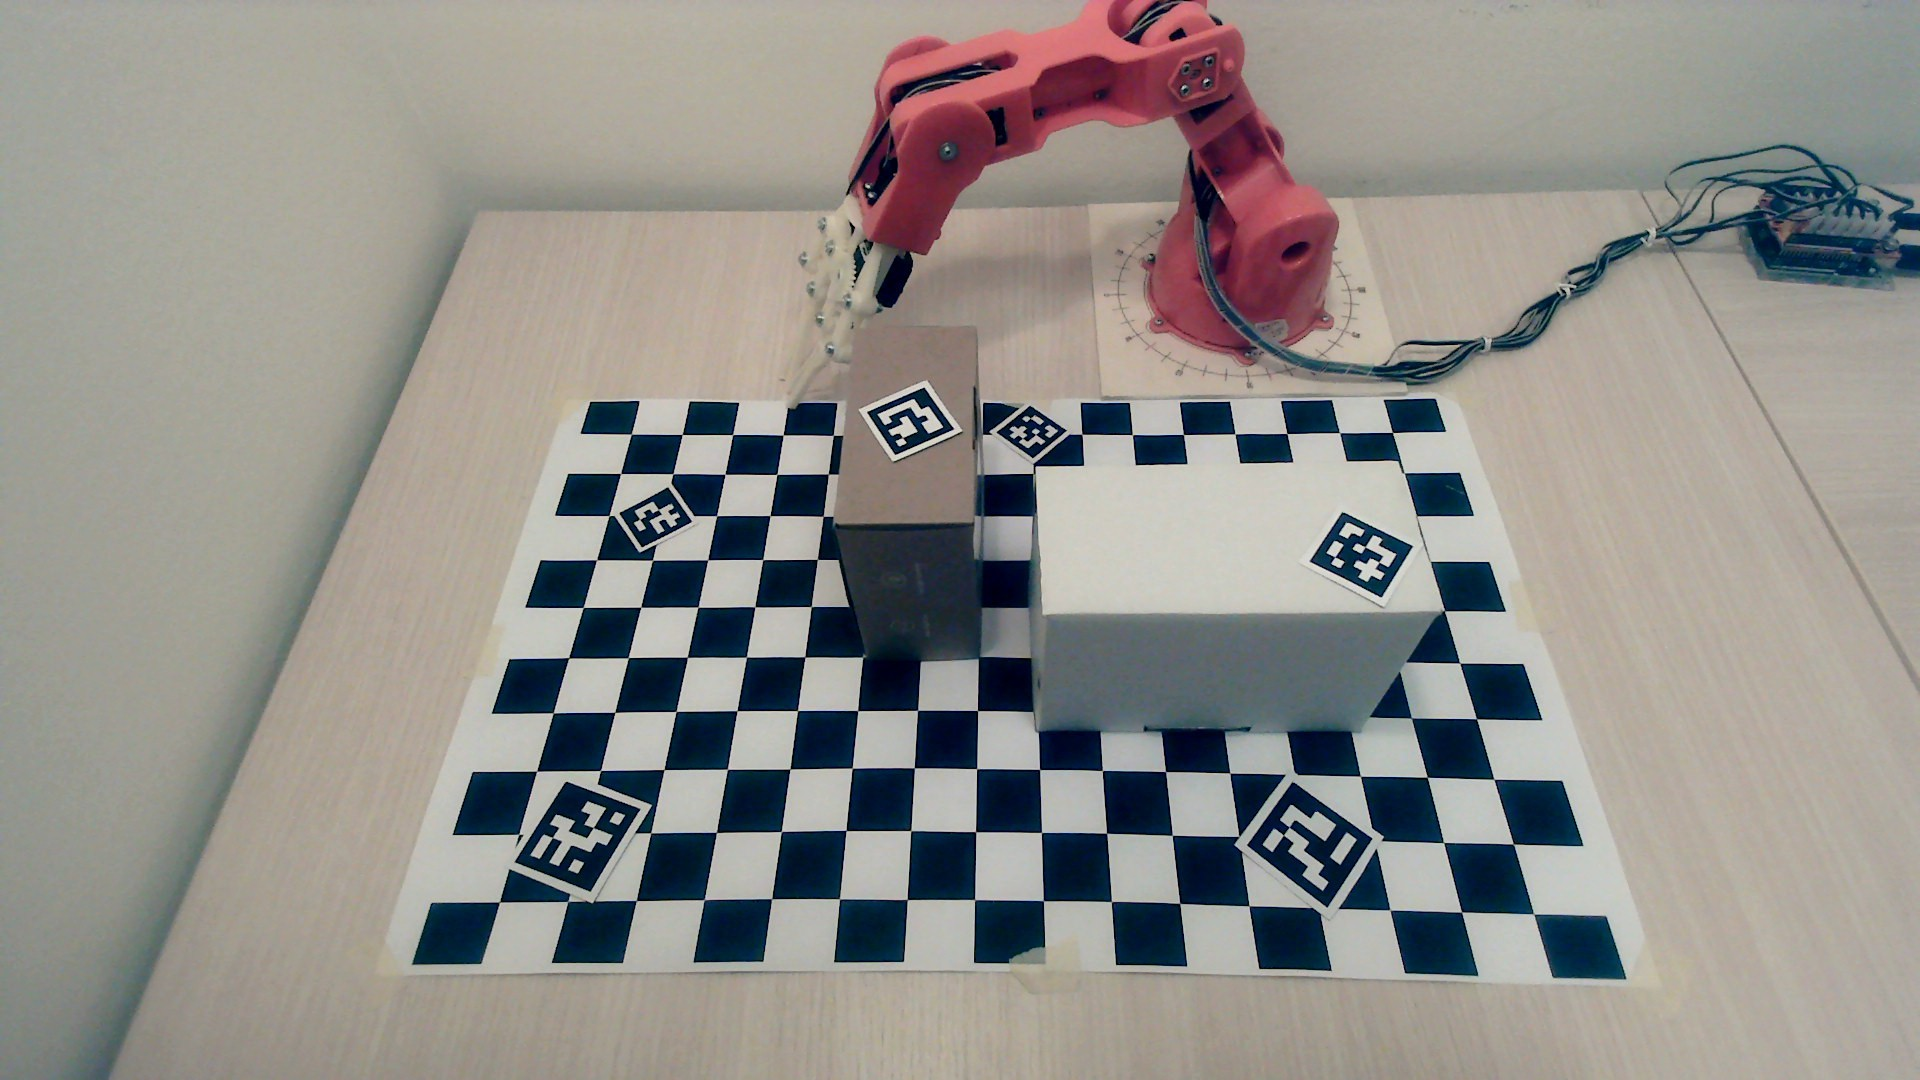marker: (1246, 777, 1375, 909), (516, 779, 642, 901), (1311, 512, 1416, 603), (864, 385, 956, 458), (618, 487, 692, 555), (998, 401, 1067, 462)
